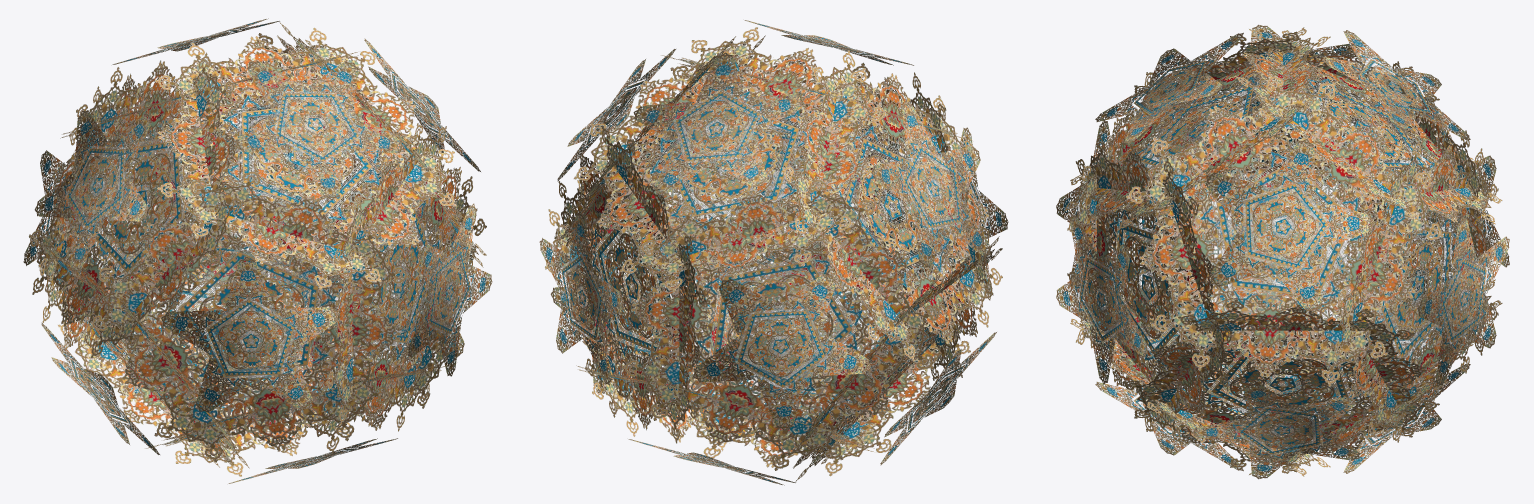
File: SnubIcosidodecadodecahedron8.gltf
The picture shows the model from 3 angles, left to right: view 1: azimuth 30°, elevation 25°; view 2: azimuth 150°, elevation 25°; view 3: azimuth 270°, elevation 25°; orthographic projection.
Parts seen in each view (by area): view 1: SnubIcosidodecadodecahedron8; view 2: SnubIcosidodecadodecahedron8; view 3: SnubIcosidodecadodecahedron8.
Boxes of the visible parts, left/top/right/bottom form: SnubIcosidodecadodecahedron8: left=23, top=18, right=492, bottom=483; SnubIcosidodecadodecahedron8: left=539, top=20, right=1008, bottom=485; SnubIcosidodecadodecahedron8: left=1056, top=24, right=1509, bottom=479.
Size of the model in its own units: 2.21 by 2.21 by 2.21.
Materials: 1 (1 with a texture image).
